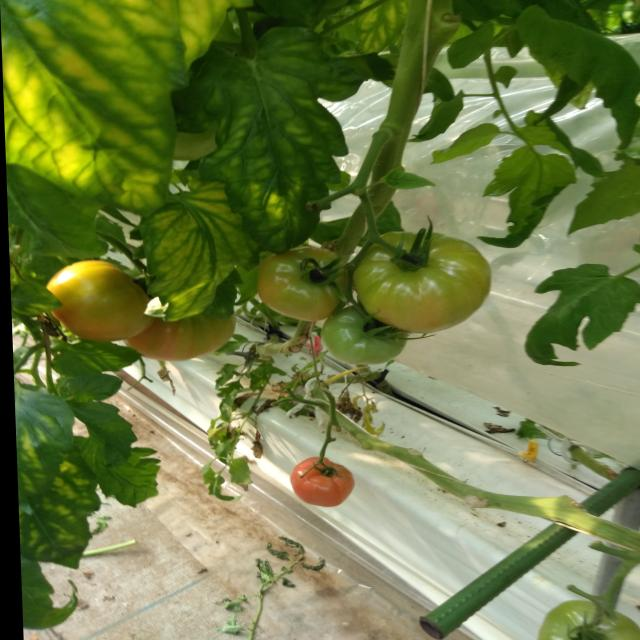yesil: (224, 209, 505, 354)
